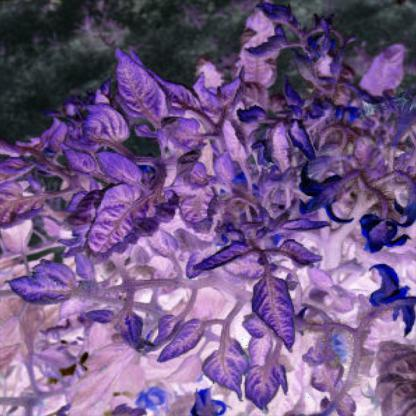tomato leaf yellow virus: (76, 181, 184, 272), (100, 44, 168, 121), (1, 259, 83, 319), (245, 271, 307, 350), (240, 354, 311, 413), (166, 187, 232, 237), (84, 148, 151, 197), (153, 317, 209, 367), (202, 340, 253, 394), (295, 179, 363, 217)
